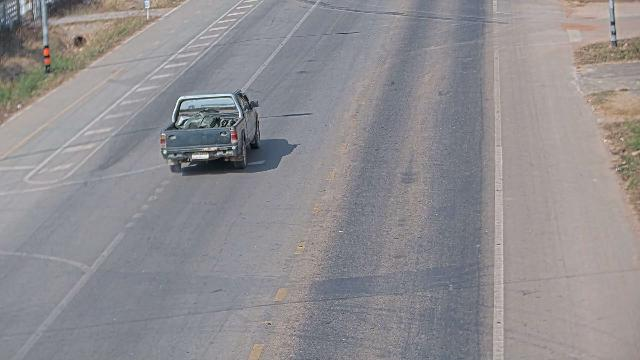pickup-truck: (159, 88, 261, 172)
